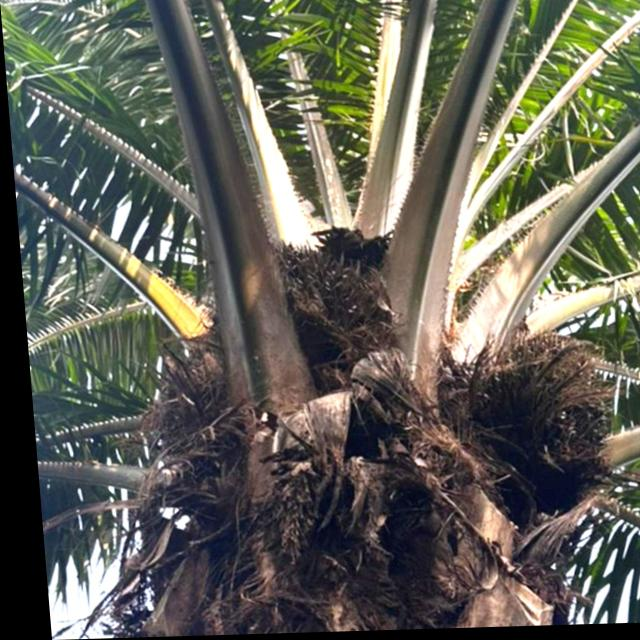ripe: (262, 236, 401, 349)
